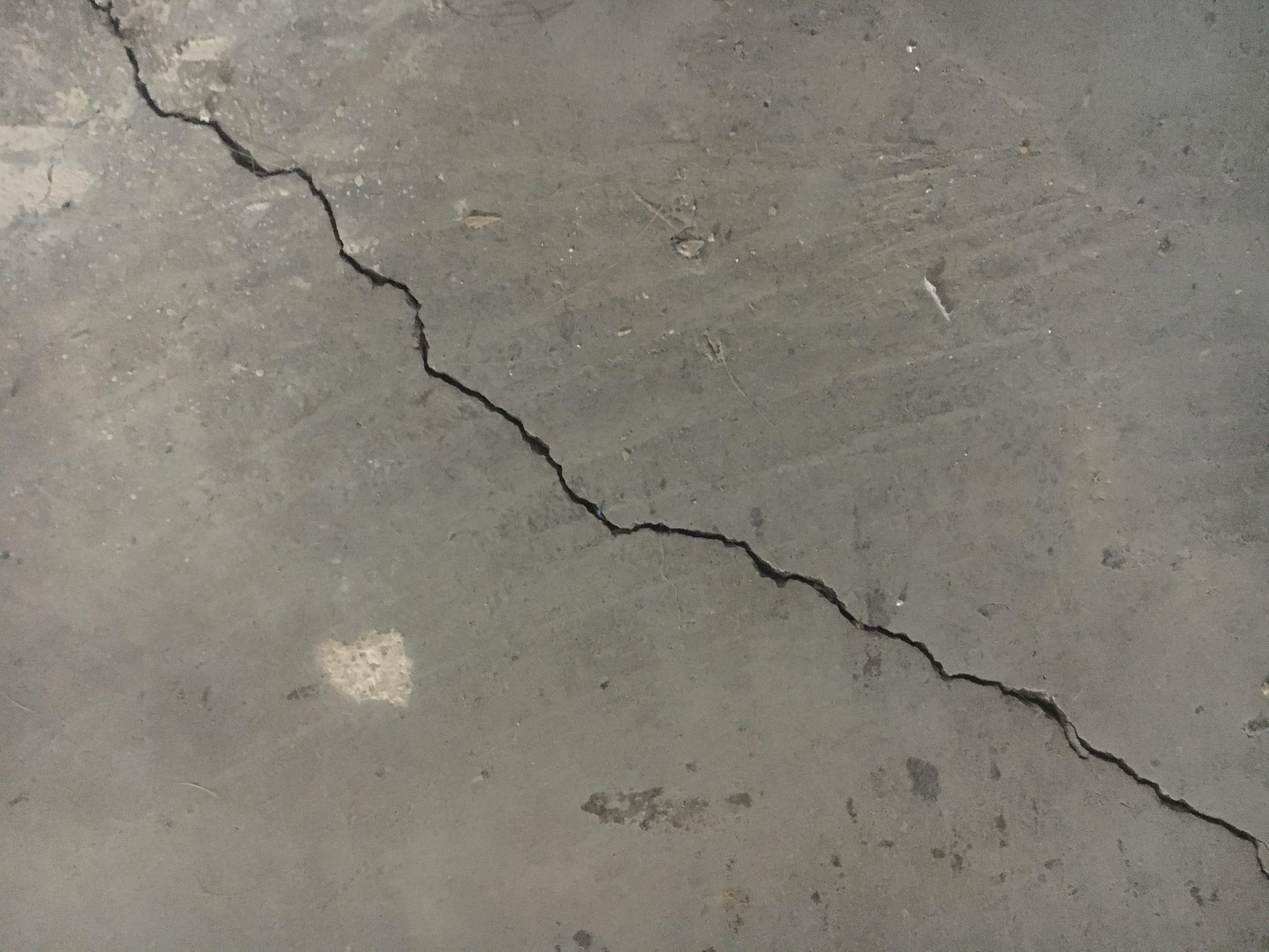Diagonal Crack: (89, 2, 1265, 881)
